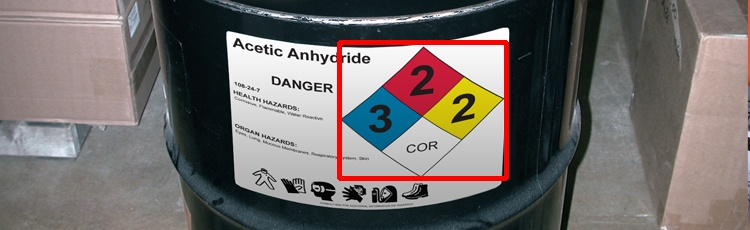nfpa: (339, 42, 506, 178)
